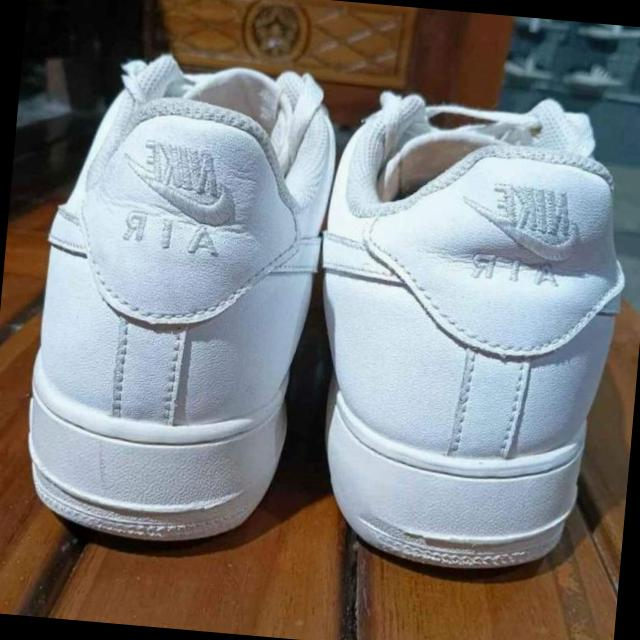nike_fake_airforce: (295, 71, 640, 583), (12, 45, 350, 555)
